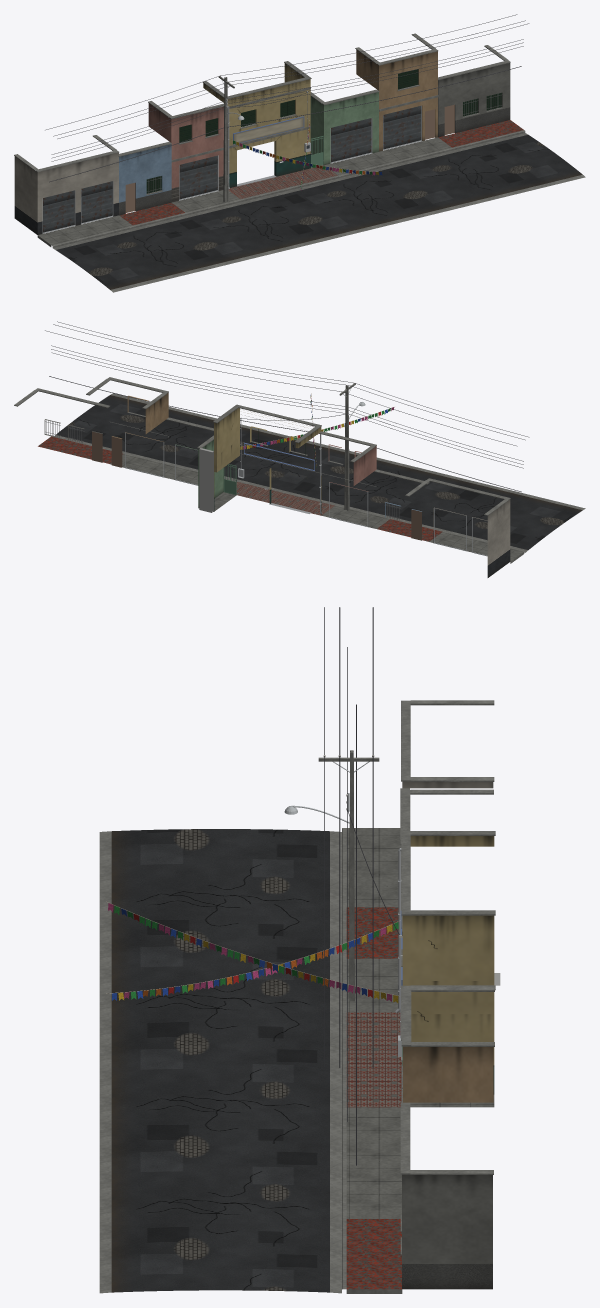
Rendered from facade.gltf.
3 renders of one model, top to bottom at view 1: azimuth 30°, elevation 25°; view 2: azimuth 150°, elevation 25°; view 3: azimuth 270°, elevation 25°, orthographic. The views are drawn at different scales.
Parts seen in each view (by area): view 1: Street, Neighbours, Sidewalk, Facade, PowerLines, SignBoard, Corridor, StreetLamp, JuneFlags, Facade_Shutters; view 2: Street, Neighbours, Sidewalk, PowerLines, Facade, CorridorEnd_Temp, Corridor, StreetLamp, JuneFlags, Gate; view 3: Street, Sidewalk, Neighbours, Facade, JuneFlags, PowerLines, StreetLamp.
Boxes of the visible parts, x1,y1,x2,y2 form: Street: (52,130,585,292); Neighbours: (14,33,510,234); Sidewalk: (37,120,523,246); Facade: (202,61,311,187); PowerLines: (45,14,529,182); SignBoard: (233,116,304,144); Corridor: (310,92,324,168); StreetLamp: (218,75,244,202); JuneFlags: (233,123,382,190); Facade_Shutters: (240,100,296,128); Street: (55,393,585,552); Neighbours: (14,377,510,577); Sidewalk: (38,436,524,563); PowerLines: (45,321,529,491); Facade: (213,404,321,515); CorridorEnd_Temp: (199,448,213,512); Corridor: (197,435,236,511); StreetLamp: (339,382,365,510); JuneFlags: (240,395,394,467); Gate: (223,464,236,495); Street: (99,828,346,1293); Sidewalk: (346,828,402,1293); Neighbours: (400,700,494,1289); Facade: (401,831,495,1094); JuneFlags: (108,903,398,1003); PowerLines: (324,607,399,1165); StreetLamp: (284,750,379,1001).
Size of what is drawn, in the model's own units: 36.11 by 9.2 by 13.23.
Materials: 25 (12 with a texture image).
